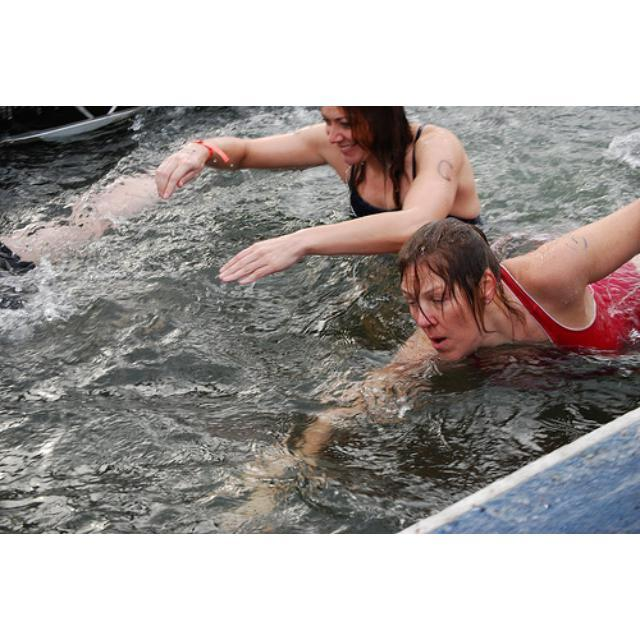human: (305, 187, 640, 466), (157, 108, 482, 285)
